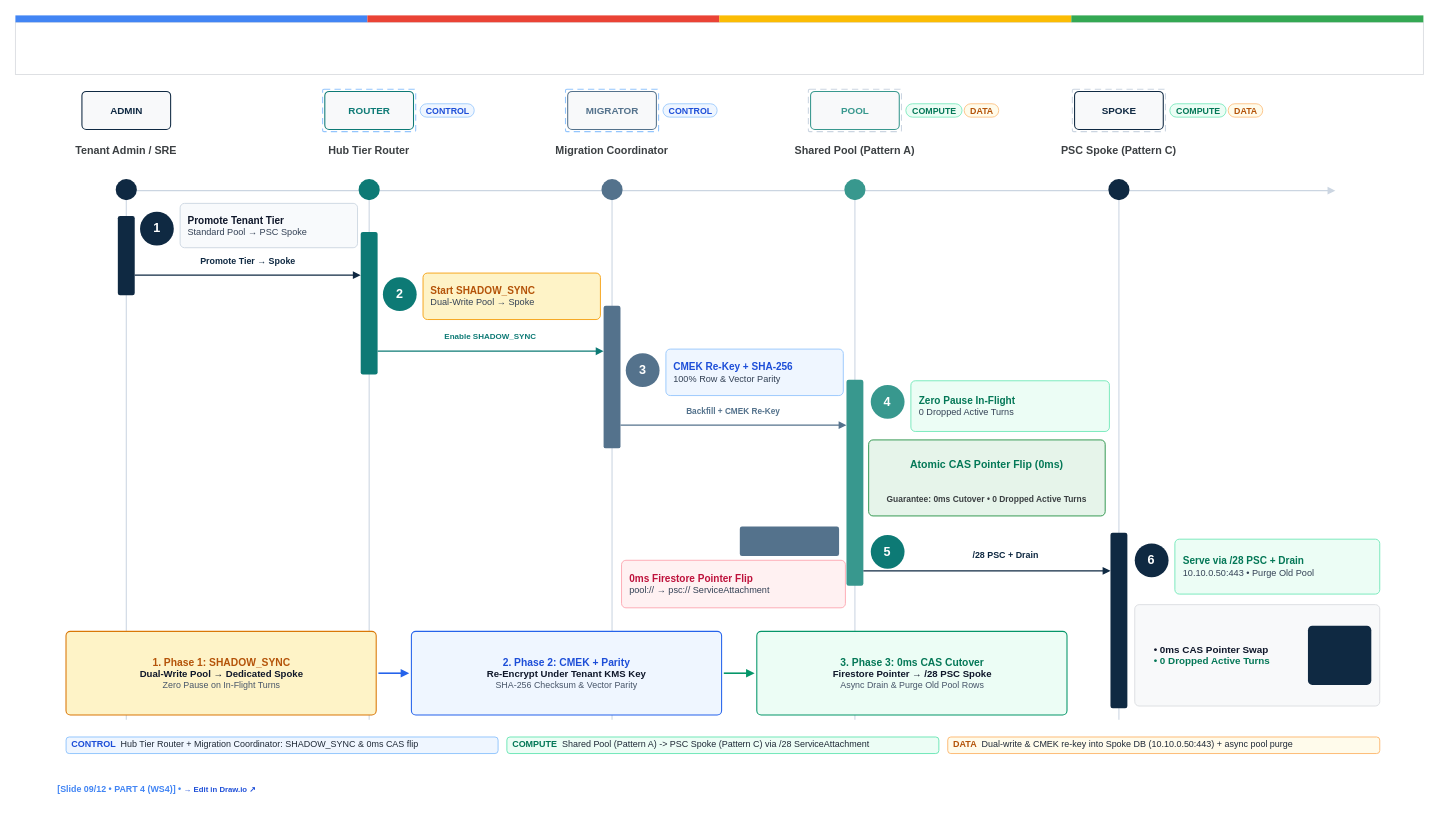
Some shapes in this 1439 by 816 pixel diagram are drawn without their labels. The shapes that lost their labels are listed below. From the top down, each one's centre as x and y in pixels, then its label:
At point 719,48: "WS4 - PART 4 - Pattern C /28 PSC & 0ms Live Tier Promotion".
At point 789,541: "CAS Flip".
At point 1339,654: "0ms SWAP".
